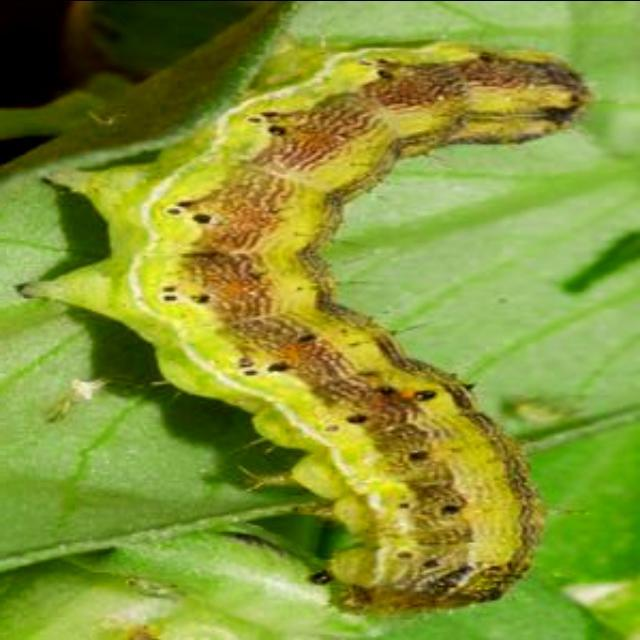Cotton bollworm: (19, 36, 608, 622)
